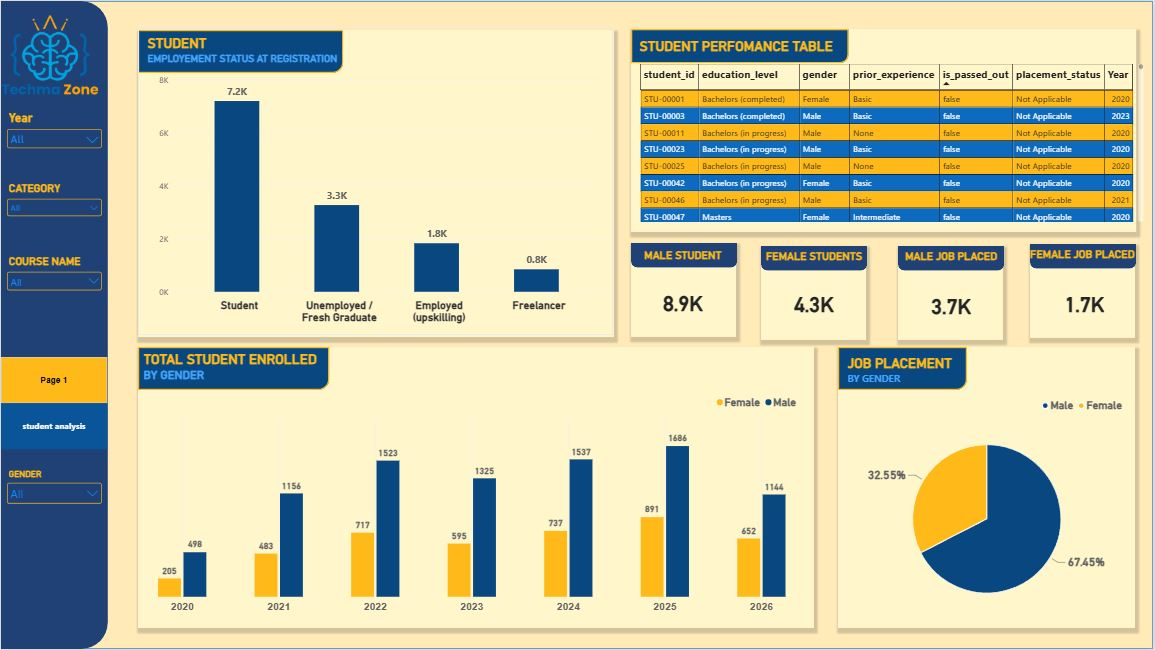

The page's visual inventory and layout, read from the dashboard file:
{"tool":"powerbi","page":{"name":"student analysis","canvas":[1920,1080],"ordinal":1},"visuals":[{"type":"shape","box":[0,0,1920,1080],"z":0},{"type":"shape","box":[228.1,48.3,792.6,511.8],"z":1000},{"type":"shape","box":[228.1,48.3,342.2,71.7],"z":2000},{"type":"shape","box":[1049.9,46.8,842.3,337.8],"z":3000},{"type":"shape","box":[1049.9,46.8,362.7,57],"z":4000},{"type":"shape","box":[1395,576.7,495,468.3],"z":5000},{"type":"shape","box":[1395,576.1,215,71.7],"z":6000},{"type":"shape","box":[228.1,576.1,1126,467.9],"z":7000},{"type":"shape","box":[228.1,576.1,318.8,71.7],"z":8000},{"type":"shape","box":[1266.4,408,175.5,156.5],"z":9000},{"type":"shape","box":[1266.4,408,176.9,40.9],"z":10000},{"type":"shape","box":[1049.9,403.6,175.5,156.5],"z":11000},{"type":"shape","box":[1049.9,403.6,176.9,40.9],"z":12000},{"type":"shape","box":[0,0,178.3,1080],"z":13000},{"type":"clusteredColumnChart","title":"TOTAL STUDENT ENROLLED","fields":{"Category":["Enrollment.Enroll Year"],"Series":["Student.gender"],"Y":["Enrollment.TOTAL_STUDENT"]},"box":[222.3,570.3,1126,467.9],"z":14000},{"type":"columnChart","title":"STUDENT ","fields":{"Y":["Enrollment.Enrollments"],"Category":["Student.employment_status_at_registration"]},"box":[228.1,43.9,792.6,513.3],"z":15000},{"type":"image","box":[0,8.3,163.3,165],"z":16000},{"type":"pageNavigator","box":[0,593.5,177.8,155.7],"z":17000},{"type":"pieChart","title":"JOB PLACEMENT","fields":{"Category":["Student.gender"],"Y":["CountNonNull(Enrollment.placement_status)"]},"box":[1395.7,576.9,495.7,473.8],"z":18000},{"type":"tableEx","title":"STUDENT PERFOMANCE TABLE","fields":{"Values":["Enrollment.student_id","Student.education_level","Student.gender","Student.prior_experience","Enrollment.is_passed_out","Enrollment.placement_status","Enrollment.enrollment_date.Variation.Date Hierarchy.Year"]},"box":[1048.5,48.3,871.5,336.3],"z":19000},{"type":"cardVisual","title":"MALE STUDENT","fields":{"Data":["Student.MALE STUDENT"]},"box":[1058.7,410.9,156.5,146.2],"z":20000},{"type":"shape","box":[1494.5,408,175.5,156.5],"z":21000},{"type":"shape","box":[1715.3,405.1,175.5,156.5],"z":22000},{"type":"shape","box":[1494.5,408,176.9,40.9],"z":23000},{"type":"shape","box":[1715.3,405.1,176.9,40.9],"z":24000},{"type":"cardVisual","title":"FEMALE STUDENTS","fields":{"Data":["Student.FEMALE STUDENTS"]},"box":[1266.4,415.3,176.9,146.2],"z":25000},{"type":"cardVisual","title":"FEMALE JOB PLACED","fields":{"Data":["Student.FEMALE PLACED"]},"box":[1715.3,410.9,181.3,149.2],"z":26000},{"type":"cardVisual","title":"MALE JOB PLACED","fields":{"Data":["Student.MALE PLACED"]},"box":[1490.1,415.3,187.2,149.2],"z":27000},{"type":"slicer","fields":{"Values":["Enrollment.Enroll Year"]},"box":[4.4,183.8,168,217],"z":28000},{"type":"slicer","fields":{"Values":["Course.category"]},"box":[4.4,301.2,168.2,150.6],"z":29000},{"type":"slicer","fields":{"Values":["Course.course_name"]},"box":[4.4,424.1,168.2,153.5],"z":30000},{"type":"slicer","fields":{"Values":["Student.gender"]},"box":[4.4,779.4,168.2,160.9],"z":31000}]}

Visuals, with their boxes on the page's 1920x1080 design canvas (x1, y1, x2, y2). These are canvas units, not pixel positions in the 1155x650 screenshot, which may show the page scaled, cropped or inside an application window:
shape: [x1=0, y1=0, x2=1920, y2=1080]
shape: [x1=228, y1=48, x2=1021, y2=560]
shape: [x1=228, y1=48, x2=570, y2=120]
shape: [x1=1050, y1=47, x2=1892, y2=385]
shape: [x1=1050, y1=47, x2=1413, y2=104]
shape: [x1=1395, y1=577, x2=1890, y2=1045]
shape: [x1=1395, y1=576, x2=1610, y2=648]
shape: [x1=228, y1=576, x2=1354, y2=1044]
shape: [x1=228, y1=576, x2=547, y2=648]
shape: [x1=1266, y1=408, x2=1442, y2=564]
shape: [x1=1266, y1=408, x2=1443, y2=449]
shape: [x1=1050, y1=404, x2=1225, y2=560]
shape: [x1=1050, y1=404, x2=1227, y2=444]
shape: [x1=0, y1=0, x2=178, y2=1080]
"TOTAL STUDENT ENROLLED" clusteredColumnChart: [x1=222, y1=570, x2=1348, y2=1038]
"STUDENT " columnChart: [x1=228, y1=44, x2=1021, y2=557]
image: [x1=0, y1=8, x2=163, y2=173]
pageNavigator: [x1=0, y1=594, x2=178, y2=749]
"JOB PLACEMENT" pieChart: [x1=1396, y1=577, x2=1891, y2=1051]
"STUDENT PERFOMANCE TABLE" tableEx: [x1=1048, y1=48, x2=1920, y2=385]
"MALE STUDENT" cardVisual: [x1=1059, y1=411, x2=1215, y2=557]
shape: [x1=1494, y1=408, x2=1670, y2=564]
shape: [x1=1715, y1=405, x2=1891, y2=562]
shape: [x1=1494, y1=408, x2=1671, y2=449]
shape: [x1=1715, y1=405, x2=1892, y2=446]
"FEMALE STUDENTS" cardVisual: [x1=1266, y1=415, x2=1443, y2=562]
"FEMALE JOB PLACED" cardVisual: [x1=1715, y1=411, x2=1897, y2=560]
"MALE JOB PLACED" cardVisual: [x1=1490, y1=415, x2=1677, y2=564]
slicer - Enrollment.Enroll Year: [x1=4, y1=184, x2=172, y2=401]
slicer - Course.category: [x1=4, y1=301, x2=173, y2=452]
slicer - Course.course_name: [x1=4, y1=424, x2=173, y2=578]
slicer - Student.gender: [x1=4, y1=779, x2=173, y2=940]
